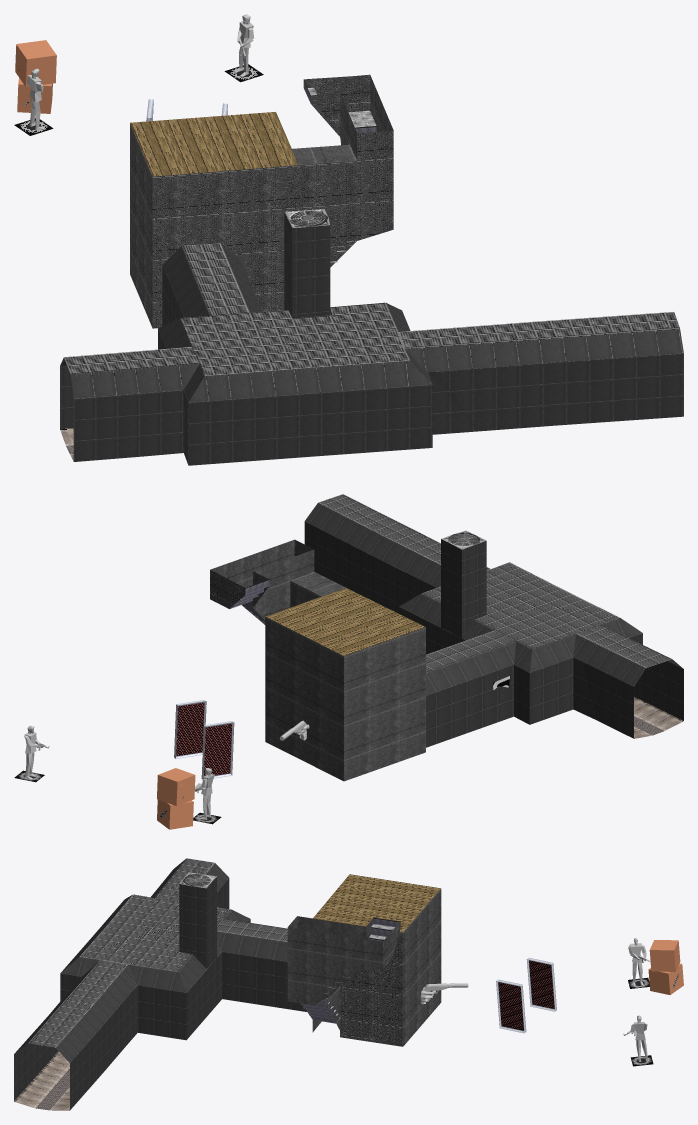
File: dam10.obj
3 renders of one model, top to bottom at view 1: azimuth 30°, elevation 25°; view 2: azimuth 150°, elevation 25°; view 3: azimuth 270°, elevation 25°, orthographic. The views are drawn at different scales.
Parts seen in each view (by area): view 1: 110_61410439_c.bmp, 114_1BE3C87_c.bmp, 001_25813CA2_c.bmp, 118_25813CA2_c.bmp, 004_41AD1AED_c.bmp, 119_25813CA2_c.bmp, 104_5503D682_c.bmp, 107_5503D682_c.bmp; view 2: 110_61410439_c.bmp, 001_25813CA2_c.bmp, 114_1BE3C87_c.bmp, 004_41AD1AED_c.bmp, 118_25813CA2_c.bmp, 111_61410439_c.bmp, 134_5FDBCC70_c.bmp, 133_5FDBCC70_c.bmp, 104_5503D682_c.bmp, 112_2667E92D_c.bmp, 107_5503D682_c.bmp, 120_598EAD81_c.bmp; view 3: 110_61410439_c.bmp, 114_1BE3C87_c.bmp, 001_25813CA2_c.bmp, 118_25813CA2_c.bmp, 004_41AD1AED_c.bmp, 112_2667E92D_c.bmp, 134_5FDBCC70_c.bmp, 133_5FDBCC70_c.bmp, 111_61410439_c.bmp, 104_5503D682_c.bmp, 120_598EAD81_c.bmp, 107_5503D682_c.bmp (+3 smaller).
Boxes of the visible parts, bbox=[...] form: 110_61410439_c.bmp: bbox=[60, 212, 683, 465]; 114_1BE3C87_c.bmp: bbox=[64, 243, 679, 375]; 001_25813CA2_c.bmp: bbox=[130, 123, 297, 328]; 118_25813CA2_c.bmp: bbox=[292, 74, 393, 240]; 004_41AD1AED_c.bmp: bbox=[130, 112, 297, 176]; 119_25813CA2_c.bmp: bbox=[297, 160, 357, 267]; 104_5503D682_c.bmp: bbox=[15, 40, 56, 86]; 107_5503D682_c.bmp: bbox=[17, 78, 52, 113]; 110_61410439_c.bmp: bbox=[304, 503, 683, 747]; 001_25813CA2_c.bmp: bbox=[265, 616, 425, 781]; 114_1BE3C87_c.bmp: bbox=[318, 494, 671, 672]; 004_41AD1AED_c.bmp: bbox=[266, 588, 425, 655]; 118_25813CA2_c.bmp: bbox=[210, 539, 345, 624]; 111_61410439_c.bmp: bbox=[441, 539, 461, 638]; 134_5FDBCC70_c.bmp: bbox=[176, 702, 204, 756]; 133_5FDBCC70_c.bmp: bbox=[204, 723, 231, 776]; 104_5503D682_c.bmp: bbox=[157, 768, 195, 805]; 112_2667E92D_c.bmp: bbox=[634, 697, 683, 738]; 107_5503D682_c.bmp: bbox=[157, 799, 193, 829]; 120_598EAD81_c.bmp: bbox=[230, 579, 269, 621]; 110_61410439_c.bmp: bbox=[14, 859, 306, 1109]; 114_1BE3C87_c.bmp: bbox=[28, 858, 287, 1047]; 001_25813CA2_c.bmp: bbox=[312, 888, 441, 1046]; 118_25813CA2_c.bmp: bbox=[287, 916, 400, 1005]; 004_41AD1AED_c.bmp: bbox=[313, 874, 440, 932]; 112_2667E92D_c.bmp: bbox=[14, 962, 212, 1110]; 134_5FDBCC70_c.bmp: bbox=[498, 982, 523, 1030]; 133_5FDBCC70_c.bmp: bbox=[529, 960, 554, 1009]; 111_61410439_c.bmp: bbox=[206, 877, 217, 968]; 104_5503D682_c.bmp: bbox=[649, 940, 680, 971]; 120_598EAD81_c.bmp: bbox=[301, 917, 400, 1019]; 107_5503D682_c.bmp: bbox=[648, 963, 683, 994].
Bounding box in the file's own units: 0.3304 × 0.1096 × 0.482.
